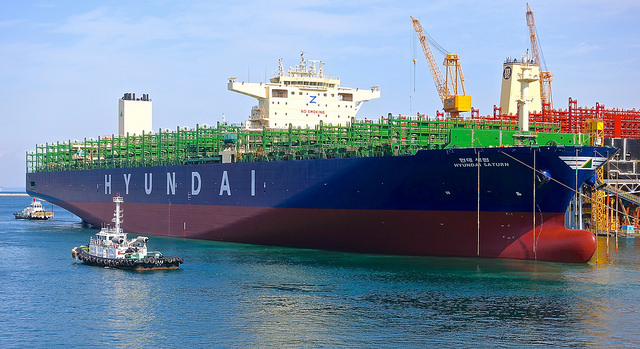container_ship: (28, 55, 615, 266)
tug_boat: (70, 192, 184, 270), (16, 196, 52, 220)
